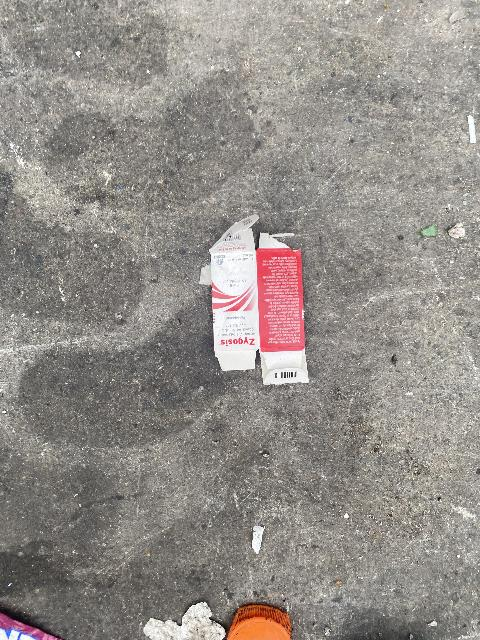Kagit: (198, 217, 316, 384), (144, 590, 225, 640), (0, 610, 62, 640), (243, 516, 276, 554)
Plastik: (232, 597, 303, 640)
